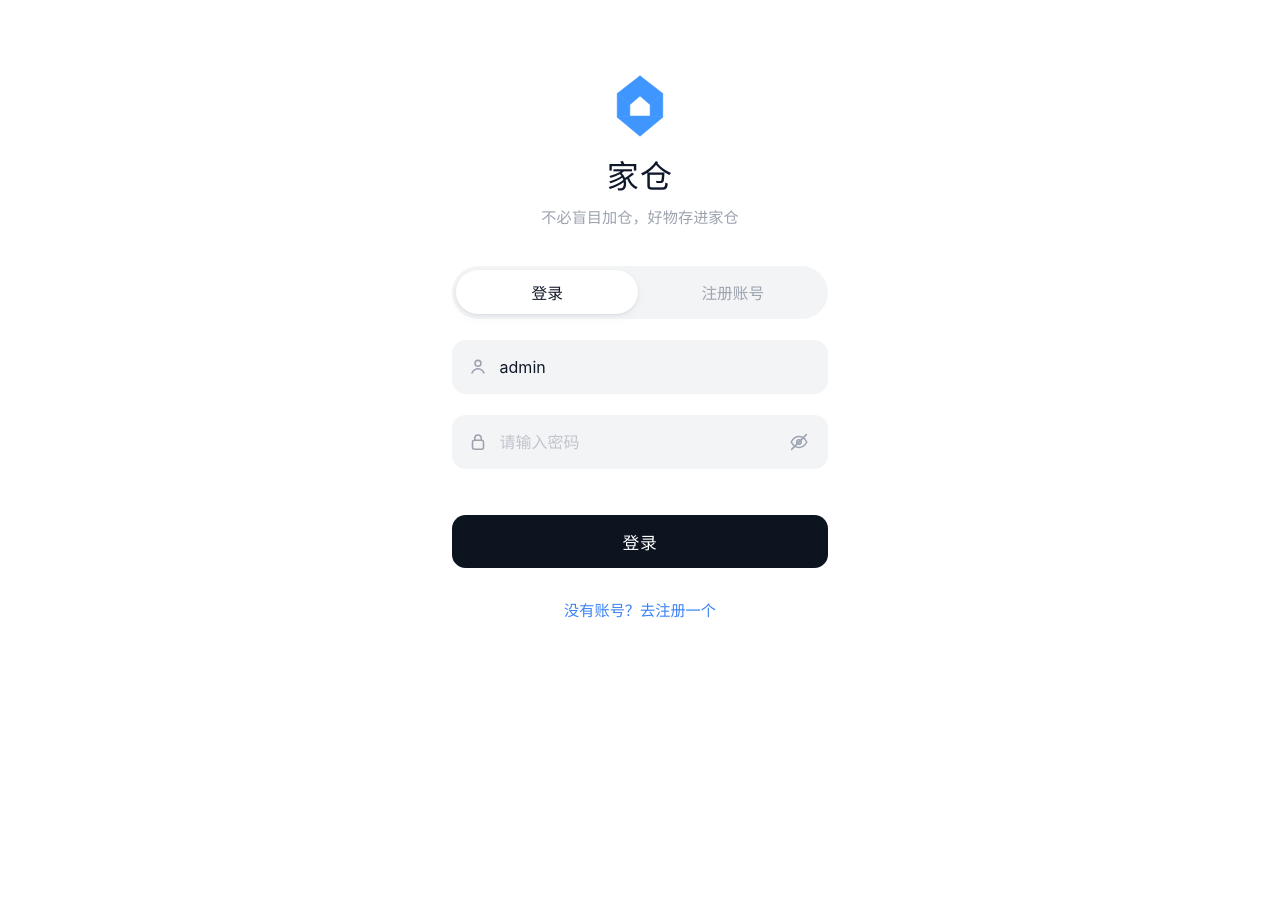
Scenario: 登录页 › shows home page after admin login instead of account management
Check: the button "登录" is shown, box [452,515,828,568]
Replace the text in the field named "账号" with "13424330500" at {"x": 656, "y": 367}, box [500,340,813,393]
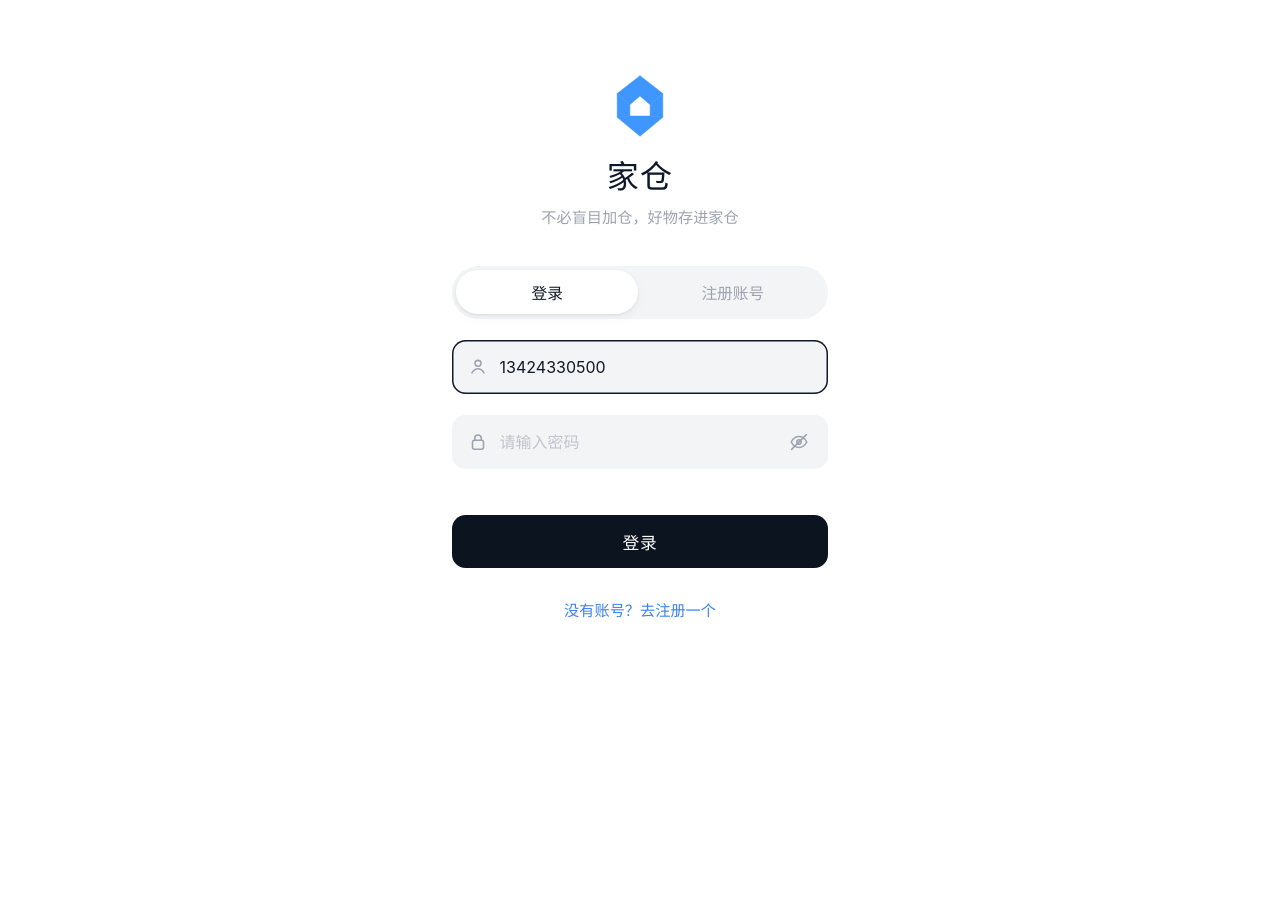
Type "secret1" into the password field labelled "密码".
click(640, 442); type("secret1")  # box [500,416,780,468]
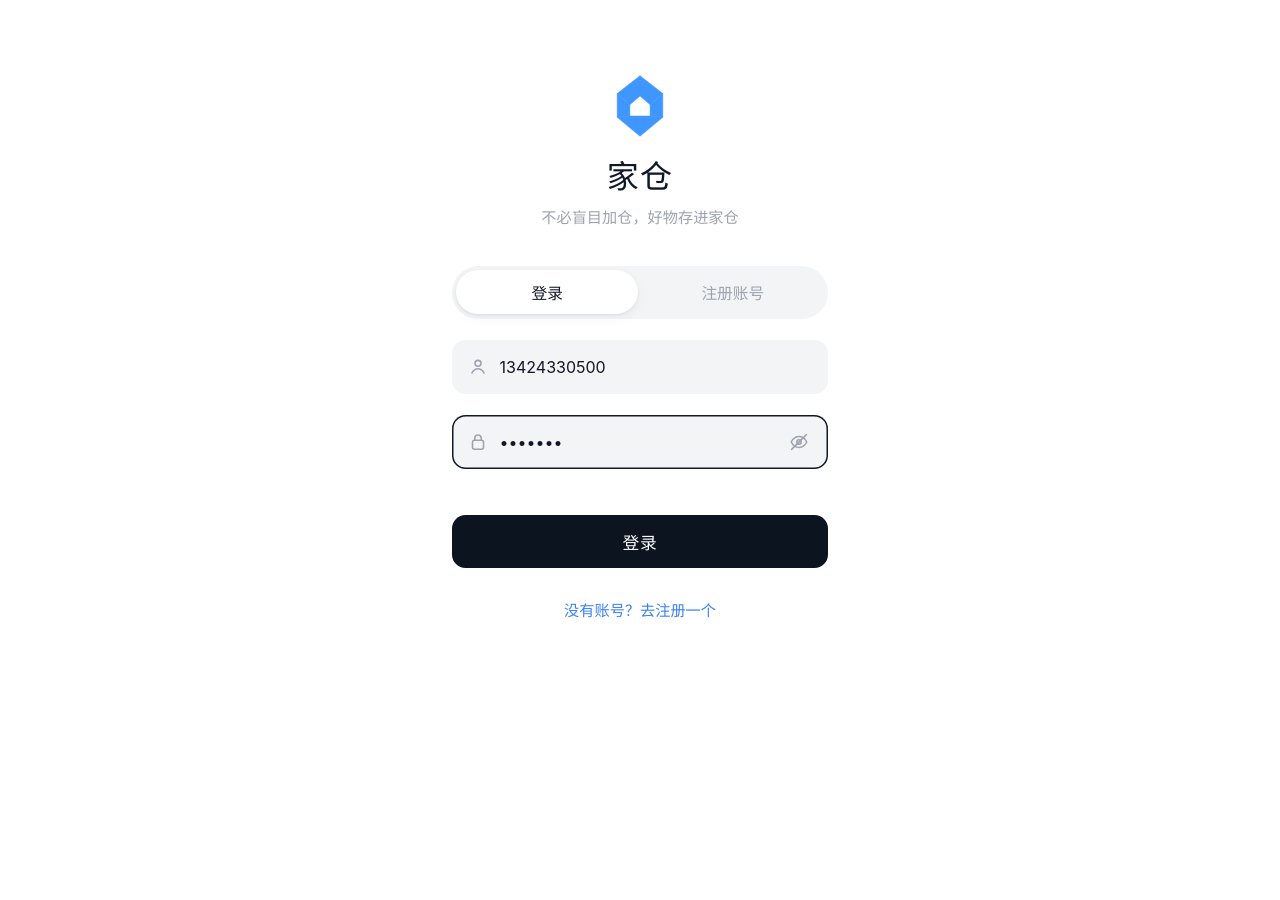
Click the button "登录".
click(640, 542)  # box [452,515,828,568]
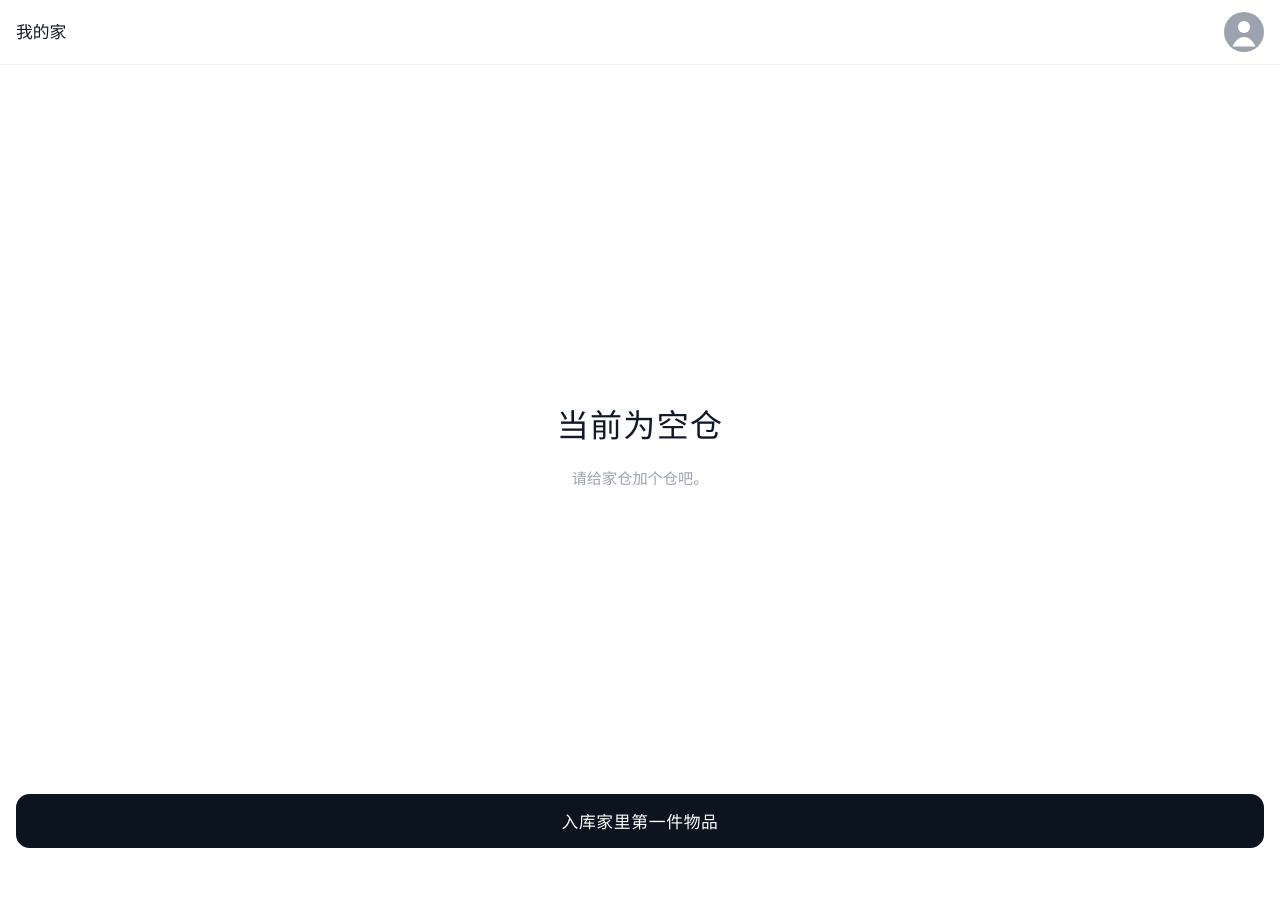
Check: the heading "当前为空仓" is shown, box [557,408,723,445]
